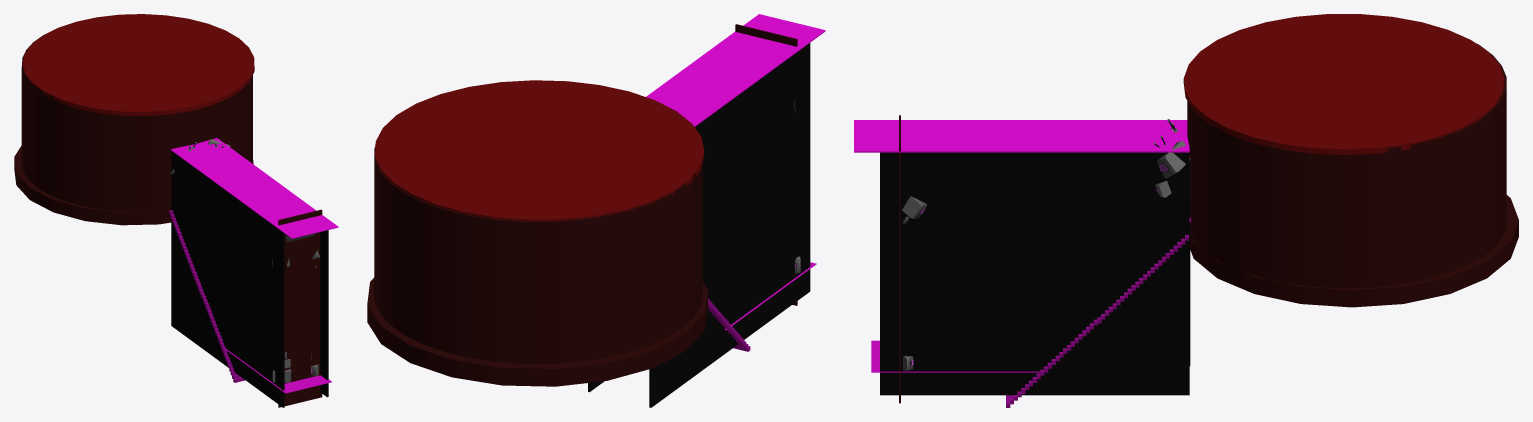
Rendered from final room.fbx.
3 renders of one model, left to right at view 1: azimuth 30°, elevation 25°; view 2: azimuth 150°, elevation 25°; view 3: azimuth 270°, elevation 25°, orthographic. The views are drawn at different scales.
Visible parts, largest first — view 1: pCube15, pCube21, pCylinder4, pCube19, pCube20, pCube18, pCube16, pCube1; view 2: pCube15, pCylinder4, pCube21, pCube20, pCube19, pCube16; view 3: pCube18, pCube15, pCylinder4, pCube20, pCube16, pCube1.
Boxes of the visible parts, bbox=[...] form: pCube15: bbox=[14, 37, 253, 225]; pCube21: bbox=[171, 151, 284, 407]; pCylinder4: bbox=[22, 14, 254, 115]; pCube19: bbox=[278, 209, 322, 407]; pCube20: bbox=[170, 138, 338, 238]; pCube18: bbox=[320, 230, 328, 397]; pCube16: bbox=[168, 210, 245, 382]; pCube1: bbox=[225, 348, 331, 393]; pCube15: bbox=[367, 146, 707, 386]; pCylinder4: bbox=[375, 80, 704, 221]; pCube21: bbox=[649, 43, 810, 407]; pCube20: bbox=[646, 14, 825, 126]; pCube19: bbox=[735, 24, 797, 305]; pCube16: bbox=[708, 298, 750, 351]; pCube18: bbox=[880, 152, 1189, 395]; pCube15: bbox=[1187, 43, 1518, 307]; pCylinder4: bbox=[1183, 14, 1504, 154]; pCube20: bbox=[854, 120, 1189, 152]; pCube16: bbox=[1006, 235, 1188, 407]; pCube1: bbox=[871, 340, 1047, 372].
Bounding box in the file's own units: 156 × 160 × 312.
